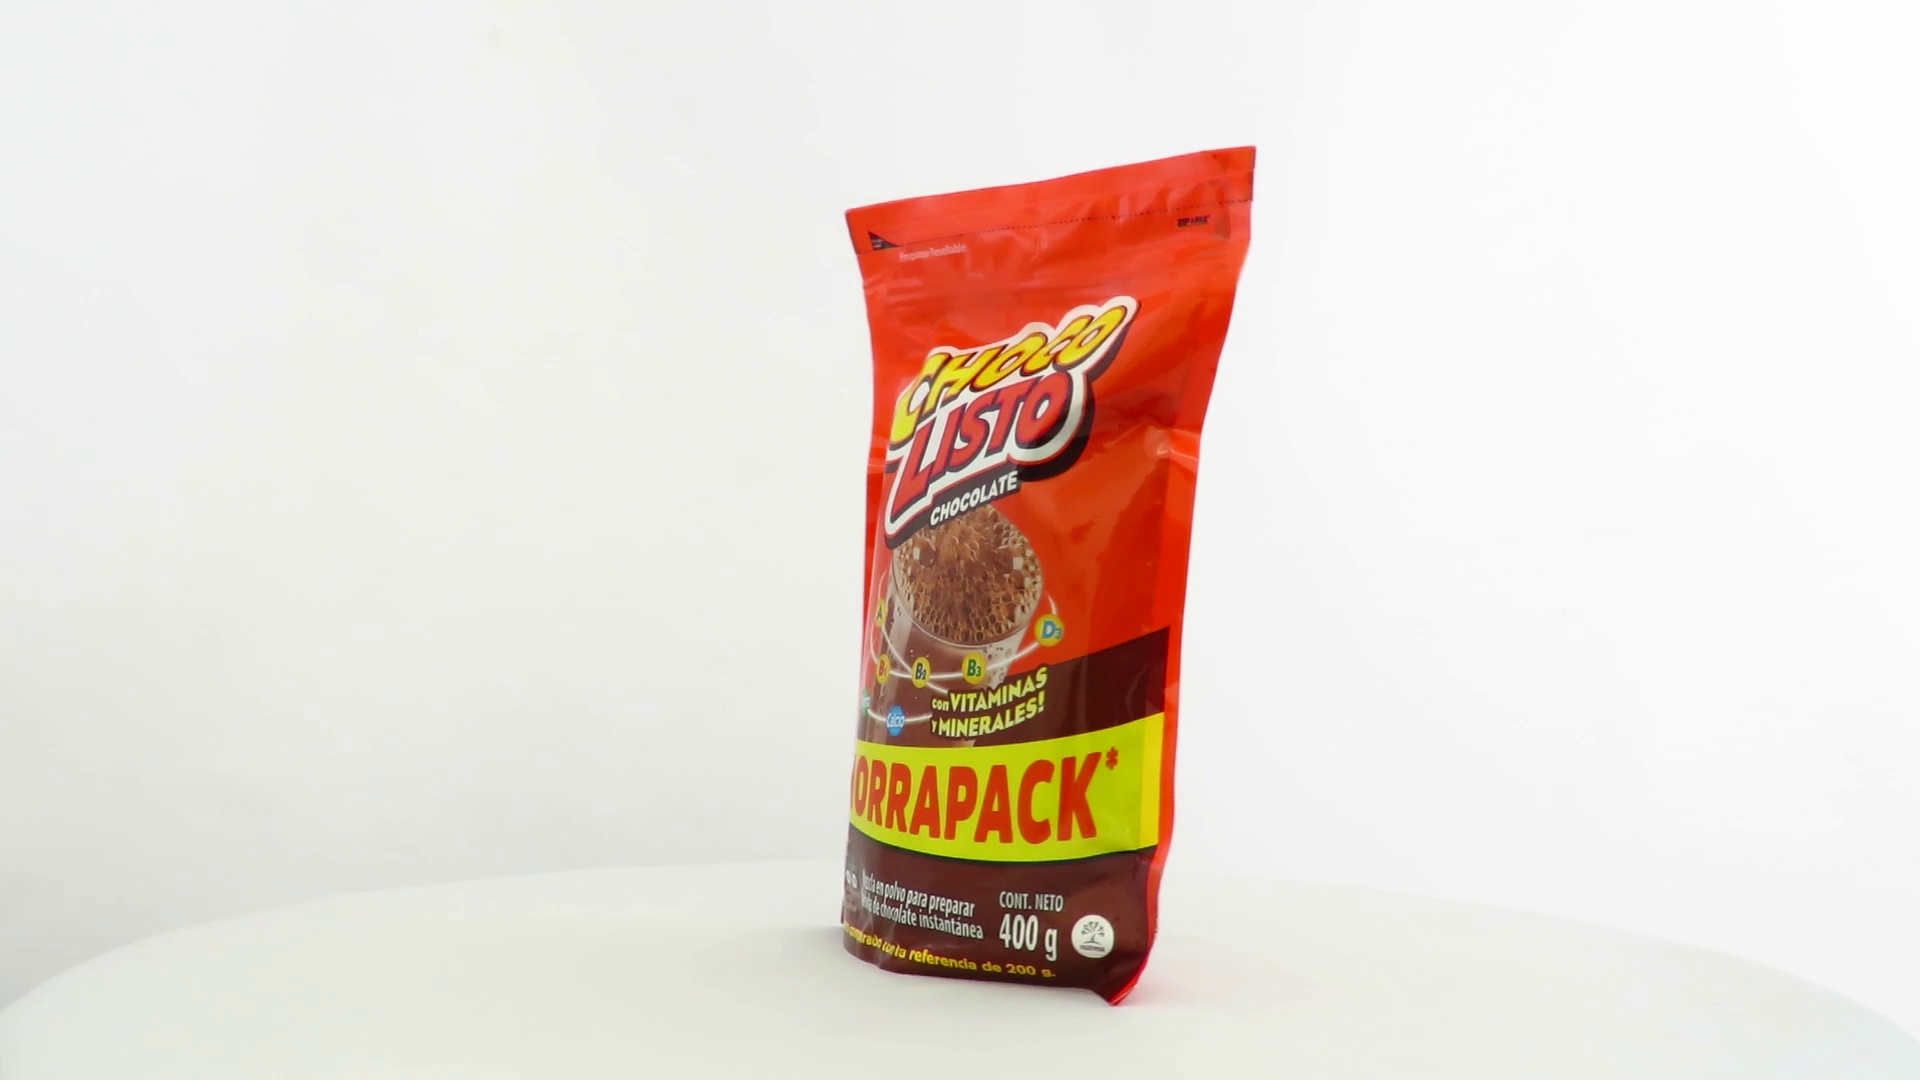COL0170103DYP40000: (836, 140, 1262, 1013)
